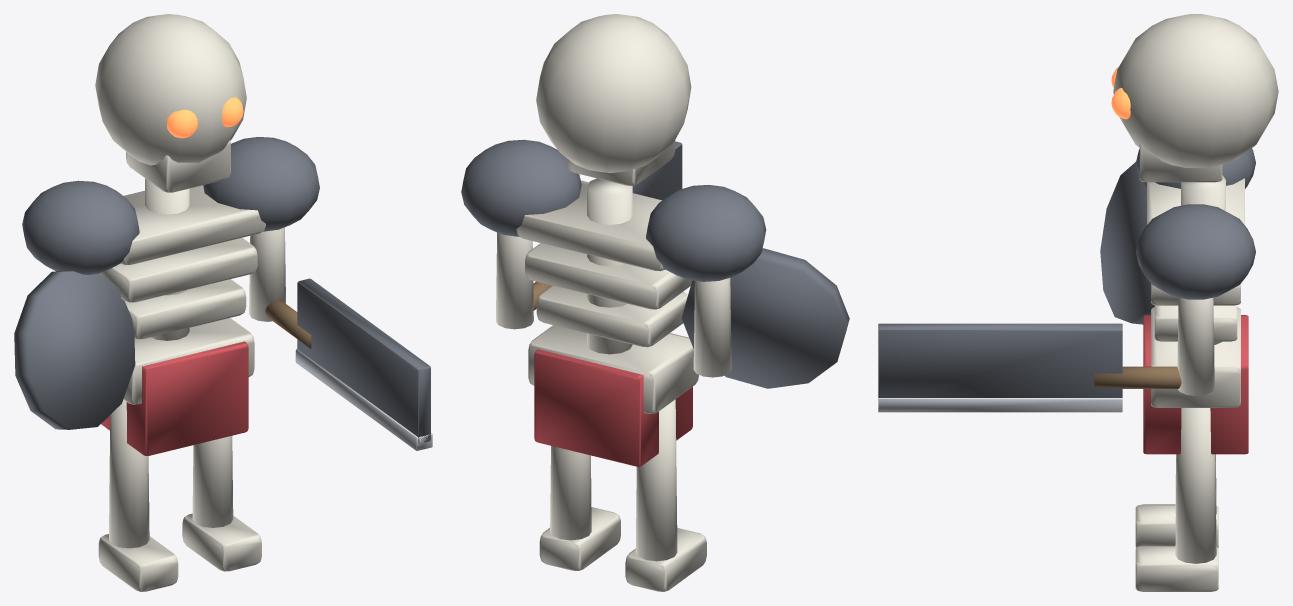
File: enemy_skeleton.glb
3 views of the same model, side by side, from view 1: azimuth 30°, elevation 25°; view 2: azimuth 150°, elevation 25°; view 3: azimuth 270°, elevation 25° (orthographic). The views are drawn at different scales.
Parts seen in each view (by area): view 1: Skull, Buckler, TatterCloth, CleaverBlade, SkelPadL, SkelPadR, Rib1, Rib2, BoneLegL, Rib3, Pelvis, BoneLegR (+8 smaller); view 2: Skull, Buckler, TatterCloth, SkelPadL, SkelPadR, Rib1, Pelvis, Rib2, Rib3, BoneLegL, BoneLegR, BoneArmL (+6 smaller); view 3: Skull, CleaverBlade, SkelPadR, Buckler, BoneLegR, TatterCloth, Pelvis, CleaverEdge, BoneArmR, SkelFootR, SkelFootL, Rib3 (+6 smaller).
Boxes of the visible parts, <box> form: Skull: <box>95,14,246,165</box>; Buckler: <box>14,271,135,429</box>; TatterCloth: <box>101,341,248,455</box>; CleaverBlade: <box>297,278,430,443</box>; SkelPadL: <box>22,180,139,274</box>; SkelPadR: <box>203,137,319,231</box>; Rib1: <box>121,185,265,265</box>; Rib2: <box>99,237,257,302</box>; BoneLegL: <box>109,399,149,548</box>; Rib3: <box>125,279,246,339</box>; Pelvis: <box>123,318,254,404</box>; BoneLegR: <box>192,436,233,527</box>; Skull: <box>536,14,691,172</box>; Buckler: <box>681,248,849,388</box>; TatterCloth: <box>534,333,692,466</box>; SkelPadL: <box>646,185,766,281</box>; SkelPadR: <box>461,139,581,236</box>; Rib1: <box>516,180,664,271</box>; Pelvis: <box>528,325,698,413</box>; Rib2: <box>525,243,691,309</box>; Rib3: <box>536,285,688,347</box>; BoneLegL: <box>635,399,677,561</box>; BoneLegR: <box>550,446,591,540</box>; BoneArmL: <box>693,278,731,377</box>; Skull: <box>1113,14,1278,167</box>; CleaverBlade: <box>878,323,1122,397</box>; SkelPadR: <box>1136,204,1255,299</box>; Buckler: <box>1100,162,1154,324</box>; BoneLegR: <box>1175,408,1216,563</box>; TatterCloth: <box>1143,315,1248,454</box>; Pelvis: <box>1151,307,1240,407</box>; CleaverEdge: <box>878,398,1122,412</box>; BoneArmR: <box>1177,297,1214,395</box>; SkelFootR: <box>1135,545,1218,591</box>; SkelFootL: <box>1135,504,1218,547</box>; Rib3: <box>1154,305,1237,341</box>.
Bounding box in the file's own units: 1.03 × 1.59 × 1.06.
